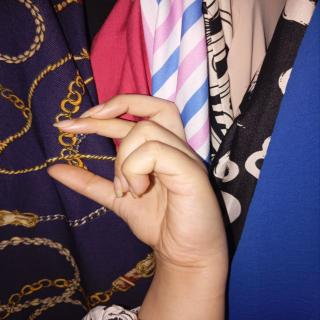DHELL: (39, 88, 252, 284)
